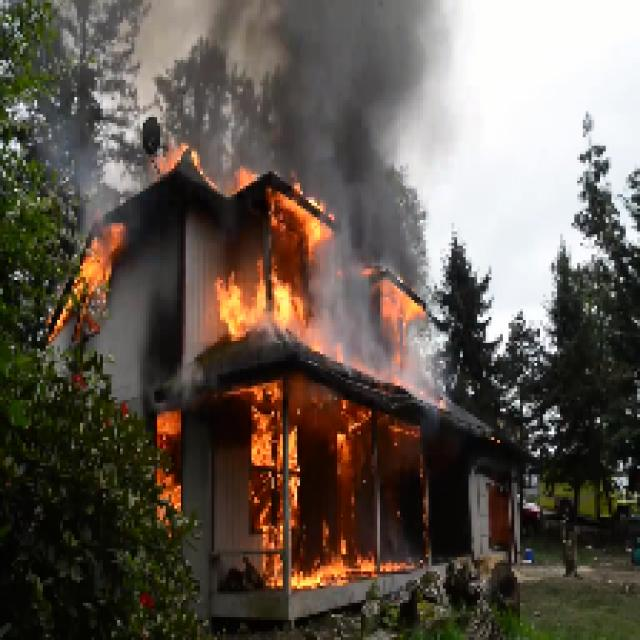fire: (240, 388, 366, 592), (212, 184, 331, 348), (54, 224, 126, 329), (374, 282, 429, 335)
smoke: (68, 0, 465, 134)
